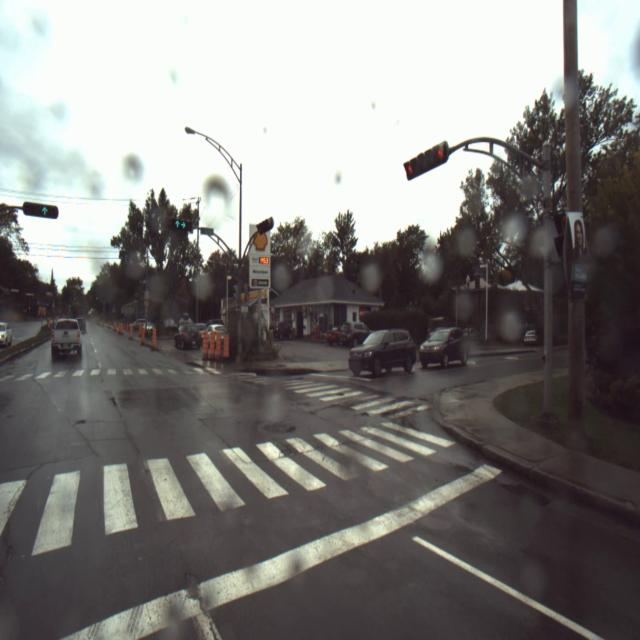car: (349, 328, 418, 378), (420, 329, 470, 368), (403, 143, 447, 180), (51, 318, 82, 364), (172, 322, 202, 350), (338, 322, 368, 347), (268, 320, 294, 340), (0, 319, 12, 346), (325, 327, 339, 347), (206, 325, 226, 338)
trafficLight-Green: (34, 203, 52, 215), (172, 217, 188, 230)
